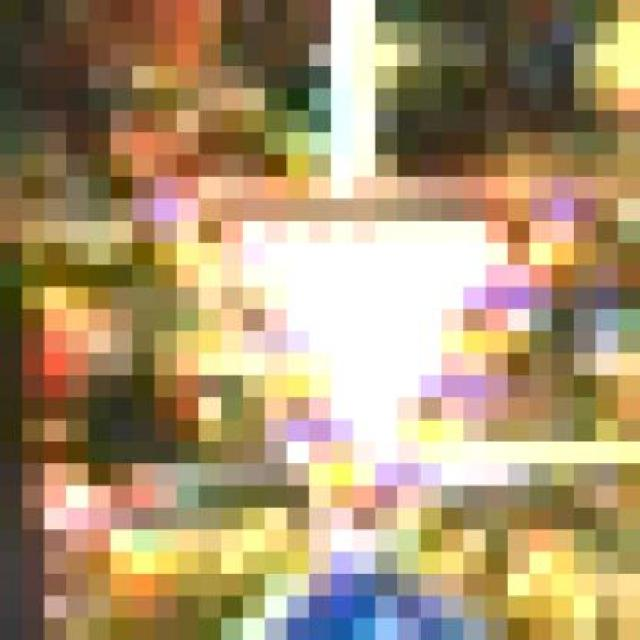Give Way: (154, 132, 574, 596)
